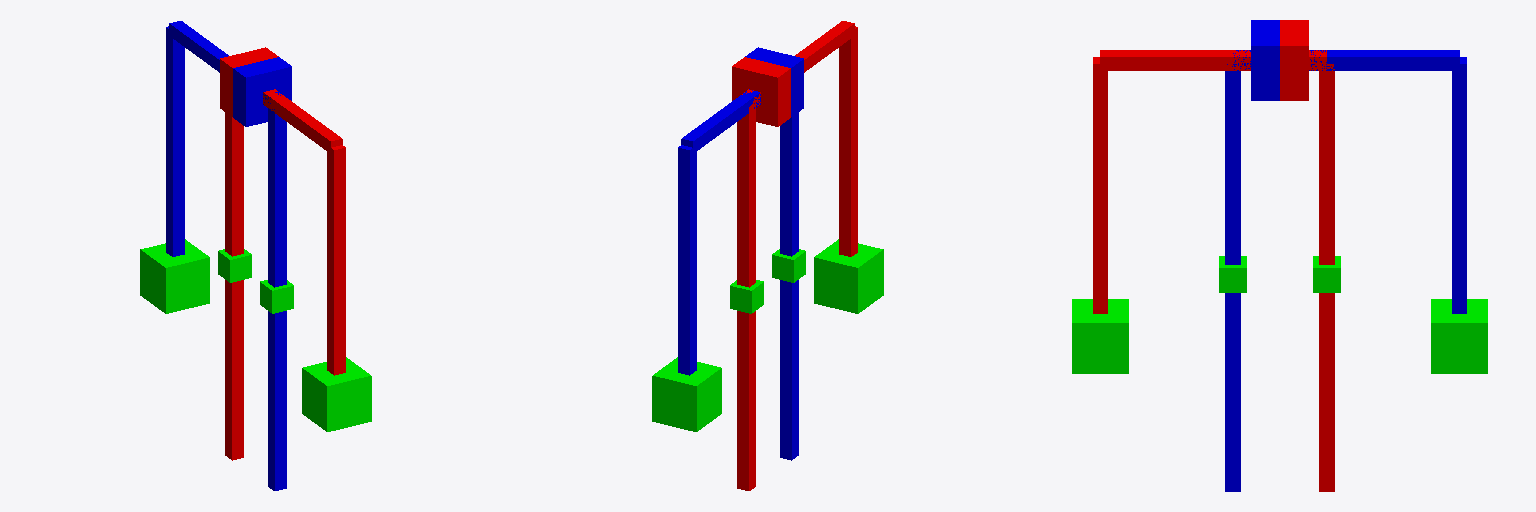
The robot description file, URDF, robot "stick_bot":
<?xml version='1.0' encoding='utf-8'?>
<robot name="stick_bot">
  <link name="left_leg">
    <visual name="left_leg_motor">
      <origin xyz="0 0.00495 0" rpy="0 0 0" />
      <geometry>
        <box size="0.0202 0.0099 0.0206" />
      </geometry>
      <material>
        <color rgba="1 0 0 0.5" />
      </material>
    </visual>
    <visual name="left_leg_axel">
      <origin xyz="0 0.00795 0" rpy="0 0 0" />
      <geometry>
        <box size="0.0052 0.0159 0.0052" />
      </geometry>
      <material>
        <color rgba="1 0 0 0.5" />
      </material>
    </visual>
    <visual name="left_leg_arm_axel">
      <origin xyz="0 -0.03045 0" rpy="0 0 0" />
      <geometry>
        <box size="0.0052 0.0609 0.0052" />
      </geometry>
      <material>
        <color rgba="1 0 0 0.5" />
      </material>
    </visual>
    <visual name="left_leg_arm">
      <origin xyz="0 -0.0609 -0.05165" rpy="0 0 0" />
      <geometry>
        <box size="0.0052 0.0052 0.1033" />
      </geometry>
      <material>
        <color rgba="1 0 0 0.5" />
      </material>
    </visual>
    <visual name="left_leg_hand_mass">
      <origin xyz="0 -0.0609 -0.1033" rpy="0 0 0" />
      <geometry>
        <box size="0.0192 0.0192 0.0192" />
      </geometry>
      <material>
        <color rgba="0 1 0 0.5" />
      </material>
    </visual>
    <visual name="left_leg_link">
      <origin xyz="0 0.0159 -0.08005" rpy="0 0 0" />
      <geometry>
        <box size="0.0052 0.0052 0.1601" />
      </geometry>
      <material>
        <color rgba="1 0 0 0.5" />
      </material>
    </visual>
    <visual name="left_leg_mass">
      <origin xyz="0 0.0159 -0.08005" rpy="0 0 0" />
      <geometry>
        <box size="0.0096 0.0096 0.0096" />
      </geometry>
      <material>
        <color rgba="0 1 0 0.5" />
      </material>
    </visual>
    <visual name="left_leg_foot_visual">
      <origin xyz="0.0139 0.0159 -0.1601" rpy="0 0 0" />
      <geometry>
        <mesh filename="file:///X_0.2443_Y_0.2477_Z_0.2393_box_x_0.1006_box_y_0.0541/left_foot_geom.obj" />
      </geometry>
      <material>
        <color rgba="1 0 0 0.5" />
      </material>
    </visual>
    <collision name="left_leg_foot_collision">
      <origin xyz="0.0139 0.0159 -0.1601" rpy="0 0 0" />
      <geometry>
        <mesh filename="file:///X_0.2443_Y_0.2477_Z_0.2393_box_x_0.1006_box_y_0.0541/left_foot_geom.obj" />
      </geometry>
      <material>
        <color rgba="1 0 0 0.5" />
      </material>
    </collision>
  </link>
  <link name="right_leg">
    <visual name="right_leg_motor">
      <origin xyz="0 -0.00495 0" rpy="0 0 0" />
      <geometry>
        <box size="0.0202 0.0099 0.0206" />
      </geometry>
      <material>
        <color rgba="0 0 1 0.5" />
      </material>
    </visual>
    <visual name="right_leg_axel">
      <origin xyz="0 -0.00795 0" rpy="0 0 0" />
      <geometry>
        <box size="0.0052 0.0159 0.0052" />
      </geometry>
      <material>
        <color rgba="0 0 1 0.5" />
      </material>
    </visual>
    <visual name="right_leg_arm_axel">
      <origin xyz="0 0.03045 0" rpy="0 0 0" />
      <geometry>
        <box size="0.0052 0.0609 0.0052" />
      </geometry>
      <material>
        <color rgba="0 0 1 0.5" />
      </material>
    </visual>
    <visual name="right_leg_arm">
      <origin xyz="0 0.0609 -0.05165" rpy="0 0 0" />
      <geometry>
        <box size="0.0052 0.0052 0.1033" />
      </geometry>
      <material>
        <color rgba="0 0 1 0.5" />
      </material>
    </visual>
    <visual name="right_leg_hand_mass">
      <origin xyz="0 0.0609 -0.1033" rpy="0 0 0" />
      <geometry>
        <box size="0.0192 0.0192 0.0192" />
      </geometry>
      <material>
        <color rgba="0 1 0 0.5" />
      </material>
    </visual>
    <visual name="right_leg_link">
      <origin xyz="0 -0.0159 -0.08005" rpy="0 0 0" />
      <geometry>
        <box size="0.0052 0.0052 0.1601" />
      </geometry>
      <material>
        <color rgba="0 0 1 0.5" />
      </material>
    </visual>
    <visual name="right_leg_mass">
      <origin xyz="0 -0.0159 -0.08005" rpy="0 0 0" />
      <geometry>
        <box size="0.0096 0.0096 0.0096" />
      </geometry>
      <material>
        <color rgba="0 1 0 0.5" />
      </material>
    </visual>
    <visual name="right_leg_foot_visual">
      <origin xyz="0.0139 -0.0159 -0.1601" rpy="0 0 0" />
      <geometry>
        <mesh filename="file:///X_0.2443_Y_0.2477_Z_0.2393_box_x_0.1006_box_y_0.0541/right_foot_geom.obj" />
      </geometry>
      <material>
        <color rgba="0 0 1 0.5" />
      </material>
    </visual>
    <collision name="right_leg_foot_collision">
      <origin xyz="0.0139 -0.0159 -0.1601" rpy="0 0 0" />
      <geometry>
        <mesh filename="file:///X_0.2443_Y_0.2477_Z_0.2393_box_x_0.1006_box_y_0.0541/right_foot_geom.obj" />
      </geometry>
      <material>
        <color rgba="0 0 1 0.5" />
      </material>
    </collision>
  </link>
  <link name="left_leg_hand_mass_mass_link">
    <inertial name="left_leg_hand_mass_inertial">
      <origin xyz="0 -0.0609 -0.1033" rpy="0 0 0" />
      <mass value="0.0953" />
      <inertia ixx="0" ixy="0" ixz="0" iyy="0" iyz="0" izz="0" />
    </inertial>
  </link>
  <link name="left_leg_mass_mass_link">
    <inertial name="left_leg_mass_inertial">
      <origin xyz="0 0.0159 -0.08005" rpy="0 0 0" />
      <mass value="0.095" />
      <inertia ixx="0" ixy="0" ixz="0" iyy="0" iyz="0" izz="0" />
    </inertial>
  </link>
  <link name="left_feet_mass_link">
    <inertial name="left_feet_inertial">
      <origin xyz="0.0139 0.0159 -0.1601" rpy="0 0 0" />
      <mass value="0.0976" />
      <inertia ixx="0" ixy="0" ixz="0" iyy="0" iyz="0" izz="0" />
    </inertial>
  </link>
  <link name="right_leg_hand_mass_mass_link">
    <inertial name="right_leg_hand_mass_inertial">
      <origin xyz="0 0.0609 -0.1033" rpy="0 0 0" />
      <mass value="0.0953" />
      <inertia ixx="0" ixy="0" ixz="0" iyy="0" iyz="0" izz="0" />
    </inertial>
  </link>
  <link name="right_leg_mass_mass_link">
    <inertial name="right_leg_mass_inertial">
      <origin xyz="0 -0.0159 -0.08005" rpy="0 0 0" />
      <mass value="0.095" />
      <inertia ixx="0" ixy="0" ixz="0" iyy="0" iyz="0" izz="0" />
    </inertial>
  </link>
  <link name="right_feet_mass_link">
    <inertial name="right_feet_inertial">
      <origin xyz="0.0139 -0.0159 -0.1601" rpy="0 0 0" />
      <mass value="0.0976" />
      <inertia ixx="0" ixy="0" ixz="0" iyy="0" iyz="0" izz="0" />
    </inertial>
  </link>
  <joint name="hip" type="revolute">
    <origin xyz="0 0 0" rpy="0 0 0" />
    <parent link="left_leg" />
    <child link="right_leg" />
    <axis xyz="0 1 0" />
    <limit lower="-0.785" upper="0.785" />
  </joint>
  <joint name="fixed_left_leg_hand_mass_mass_link" type="fixed">
    <origin xyz="0 0 0" rpy="0 0 0" />
    <parent link="left_leg" />
    <child link="left_leg_hand_mass_mass_link" />
  </joint>
  <joint name="fixed_left_leg_mass_mass_link" type="fixed">
    <origin xyz="0 0 0" rpy="0 0 0" />
    <parent link="left_leg" />
    <child link="left_leg_mass_mass_link" />
  </joint>
  <joint name="fixed_left_feet_mass_link" type="fixed">
    <origin xyz="0 0 0" rpy="0 0 0" />
    <parent link="left_leg" />
    <child link="left_feet_mass_link" />
  </joint>
  <joint name="fixed_right_leg_hand_mass_mass_link" type="fixed">
    <origin xyz="0 0 0" rpy="0 0 0" />
    <parent link="right_leg" />
    <child link="right_leg_hand_mass_mass_link" />
  </joint>
  <joint name="fixed_right_leg_mass_mass_link" type="fixed">
    <origin xyz="0 0 0" rpy="0 0 0" />
    <parent link="right_leg" />
    <child link="right_leg_mass_mass_link" />
  </joint>
  <joint name="fixed_right_feet_mass_link" type="fixed">
    <origin xyz="0 0 0" rpy="0 0 0" />
    <parent link="right_leg" />
    <child link="right_feet_mass_link" />
  </joint>
</robot>

--- Render facts (derived) ---
Views: 3 orthographic renders of the robot side by side, from view 1: azimuth 30°, elevation 25°; view 2: azimuth 150°, elevation 25°; view 3: azimuth 270°, elevation 25°.
Robot: stick_bot — 8 links, 7 joints (1 revolute, 6 fixed); root link left_leg; default pose: every joint at zero.
Visible links, largest first — view 1: right_leg, left_leg; view 2: left_leg, right_leg; view 3: left_leg, right_leg.
Boxes of the visible links, box(x1,y1,x2,y2) form: right_leg: box(140, 21, 293, 490); left_leg: box(218, 47, 371, 460); left_leg: box(730, 21, 883, 490); right_leg: box(652, 47, 805, 460); left_leg: box(1072, 20, 1340, 491); right_leg: box(1219, 20, 1487, 491).
Size in the robot's own frame: 0.0202 by 0.141 by 0.1704 metres.
Geometry: only primitive shapes (box / cylinder / sphere) drawn; not drawn: 2 mesh visuals (reference in a form the renderer does not follow).
